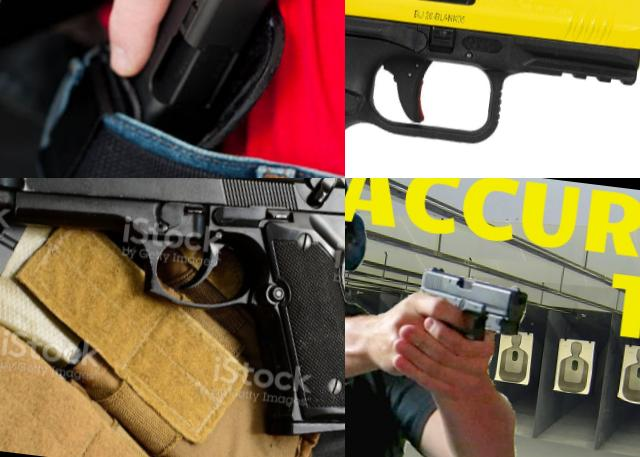handgun: (0, 178, 345, 453), (345, 0, 640, 178), (107, 0, 336, 170), (411, 264, 534, 356)
